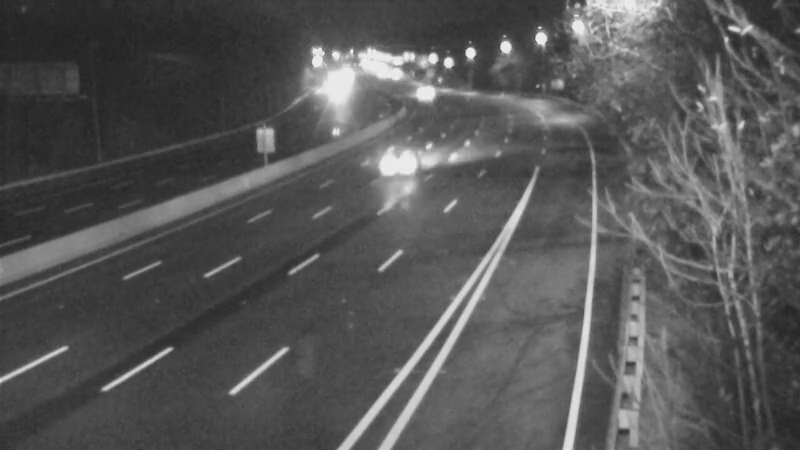vehicle: (360, 129, 440, 209), (399, 67, 449, 117)
